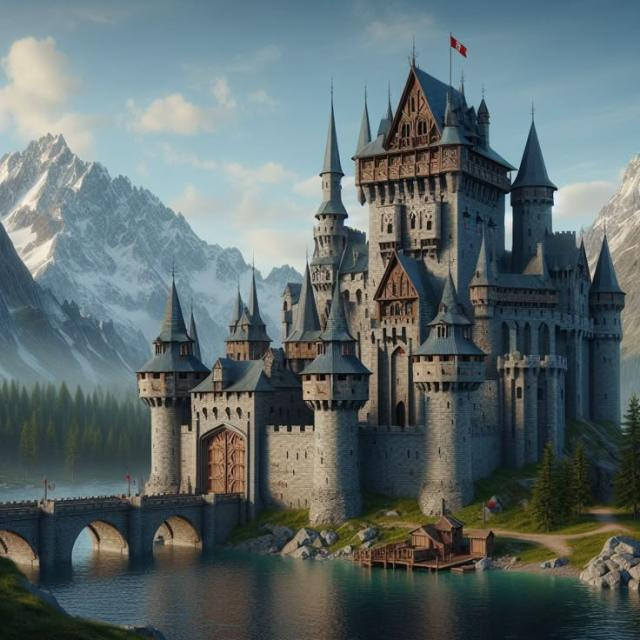castle: (99, 31, 632, 526)
